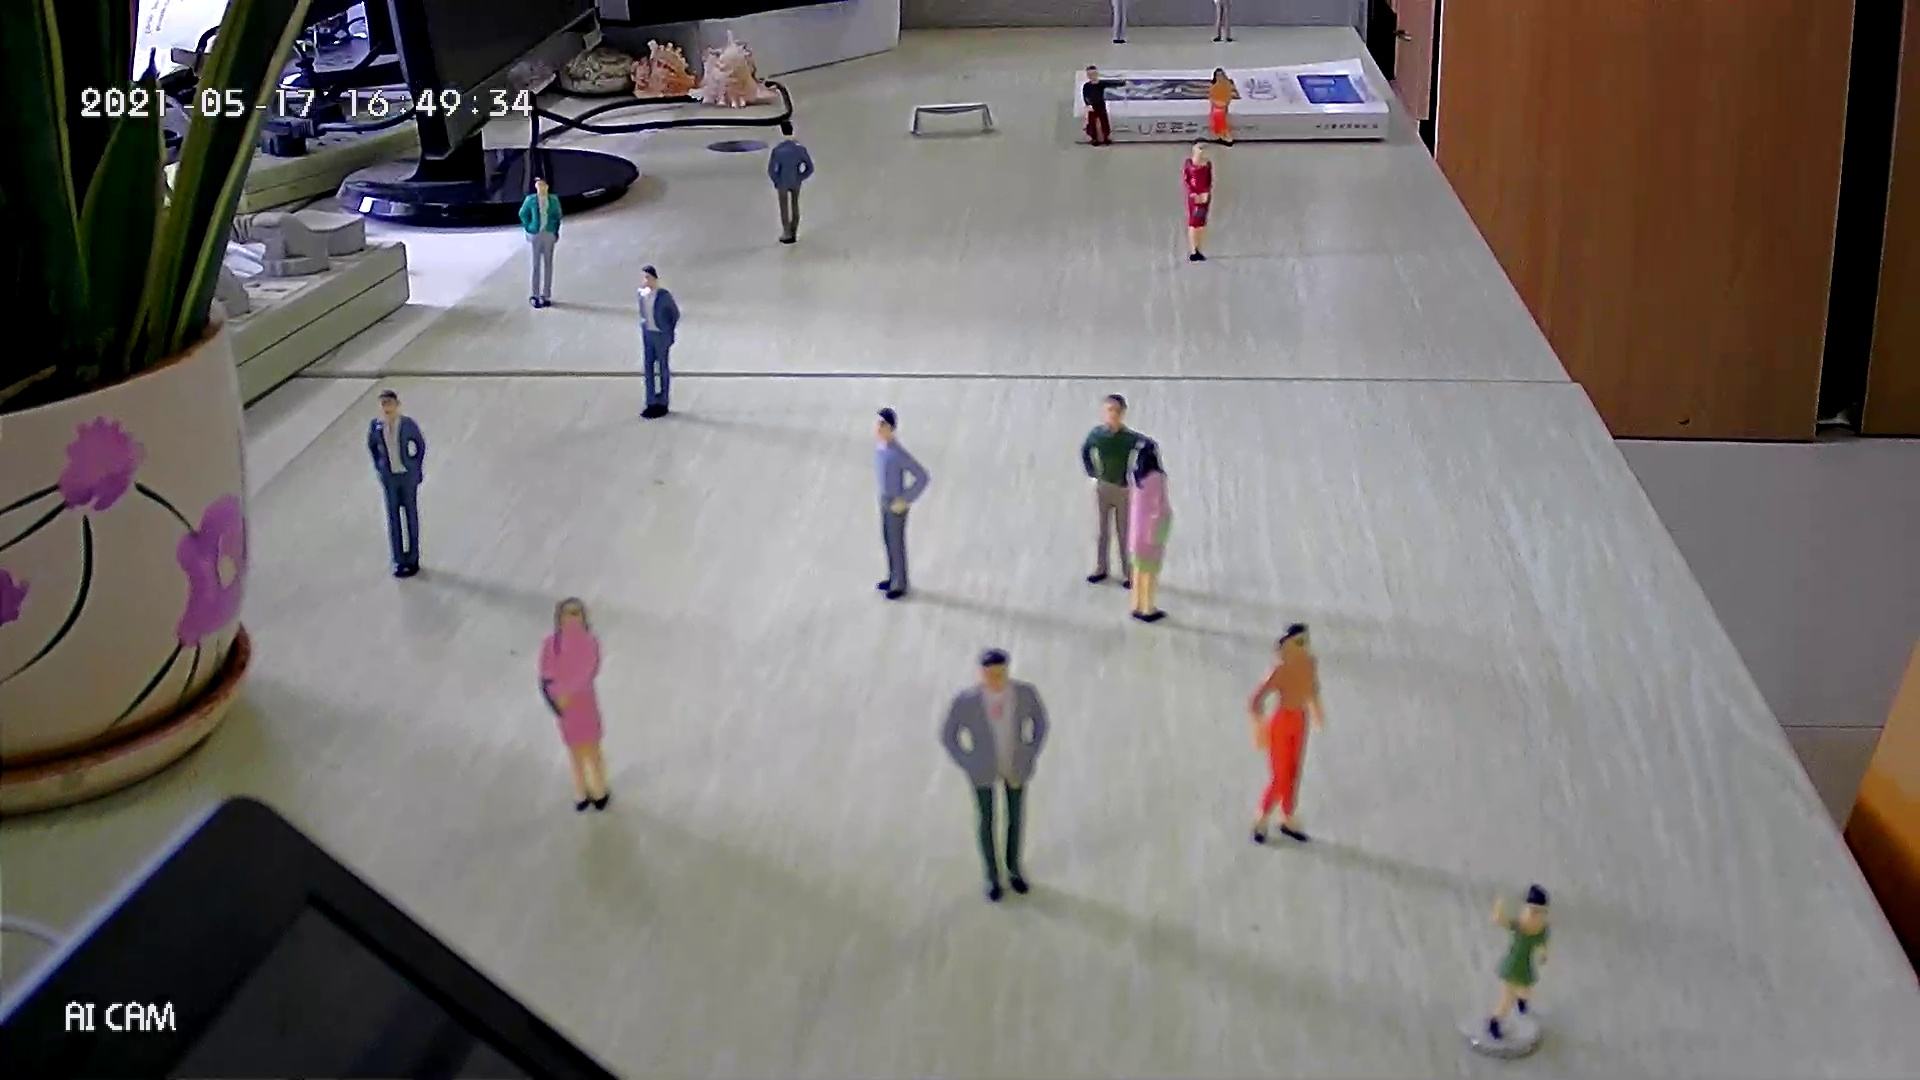person: (935, 646, 1055, 902), (1241, 616, 1333, 848), (533, 594, 613, 814), (1077, 390, 1155, 590), (867, 402, 933, 600), (365, 388, 433, 580), (1479, 880, 1557, 1046), (1125, 438, 1179, 624), (629, 258, 685, 422), (515, 170, 565, 310), (767, 118, 817, 248), (1079, 60, 1137, 152), (1179, 132, 1217, 266), (1203, 60, 1243, 150), (1206, 1, 1239, 46), (1106, 1, 1133, 50)
